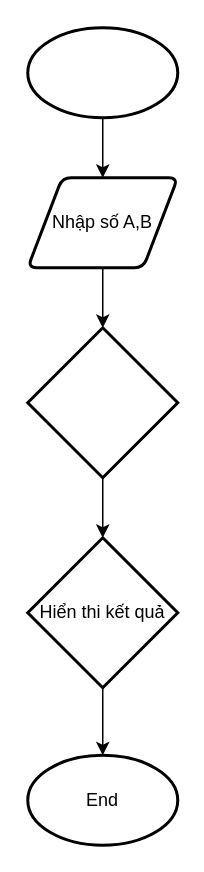
Some shapes in this 204 by 872 pixel diagram are drawn without their labels. Each missing label, with the centre of its shape:
start: the point at 102,72
Tính tổng S= A + B: the point at 102,402
